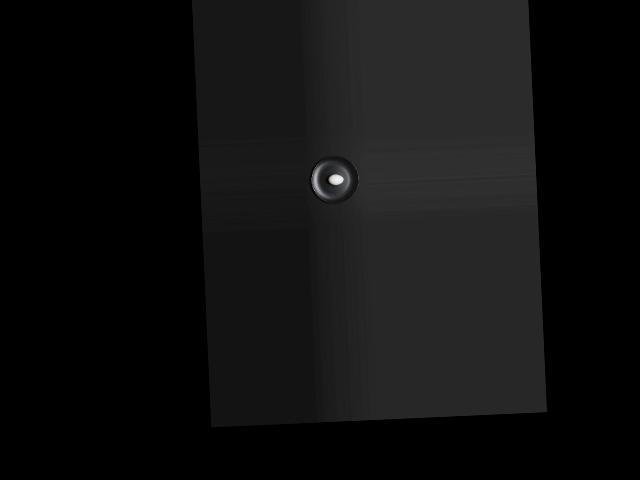egg: (327, 173, 343, 185)
